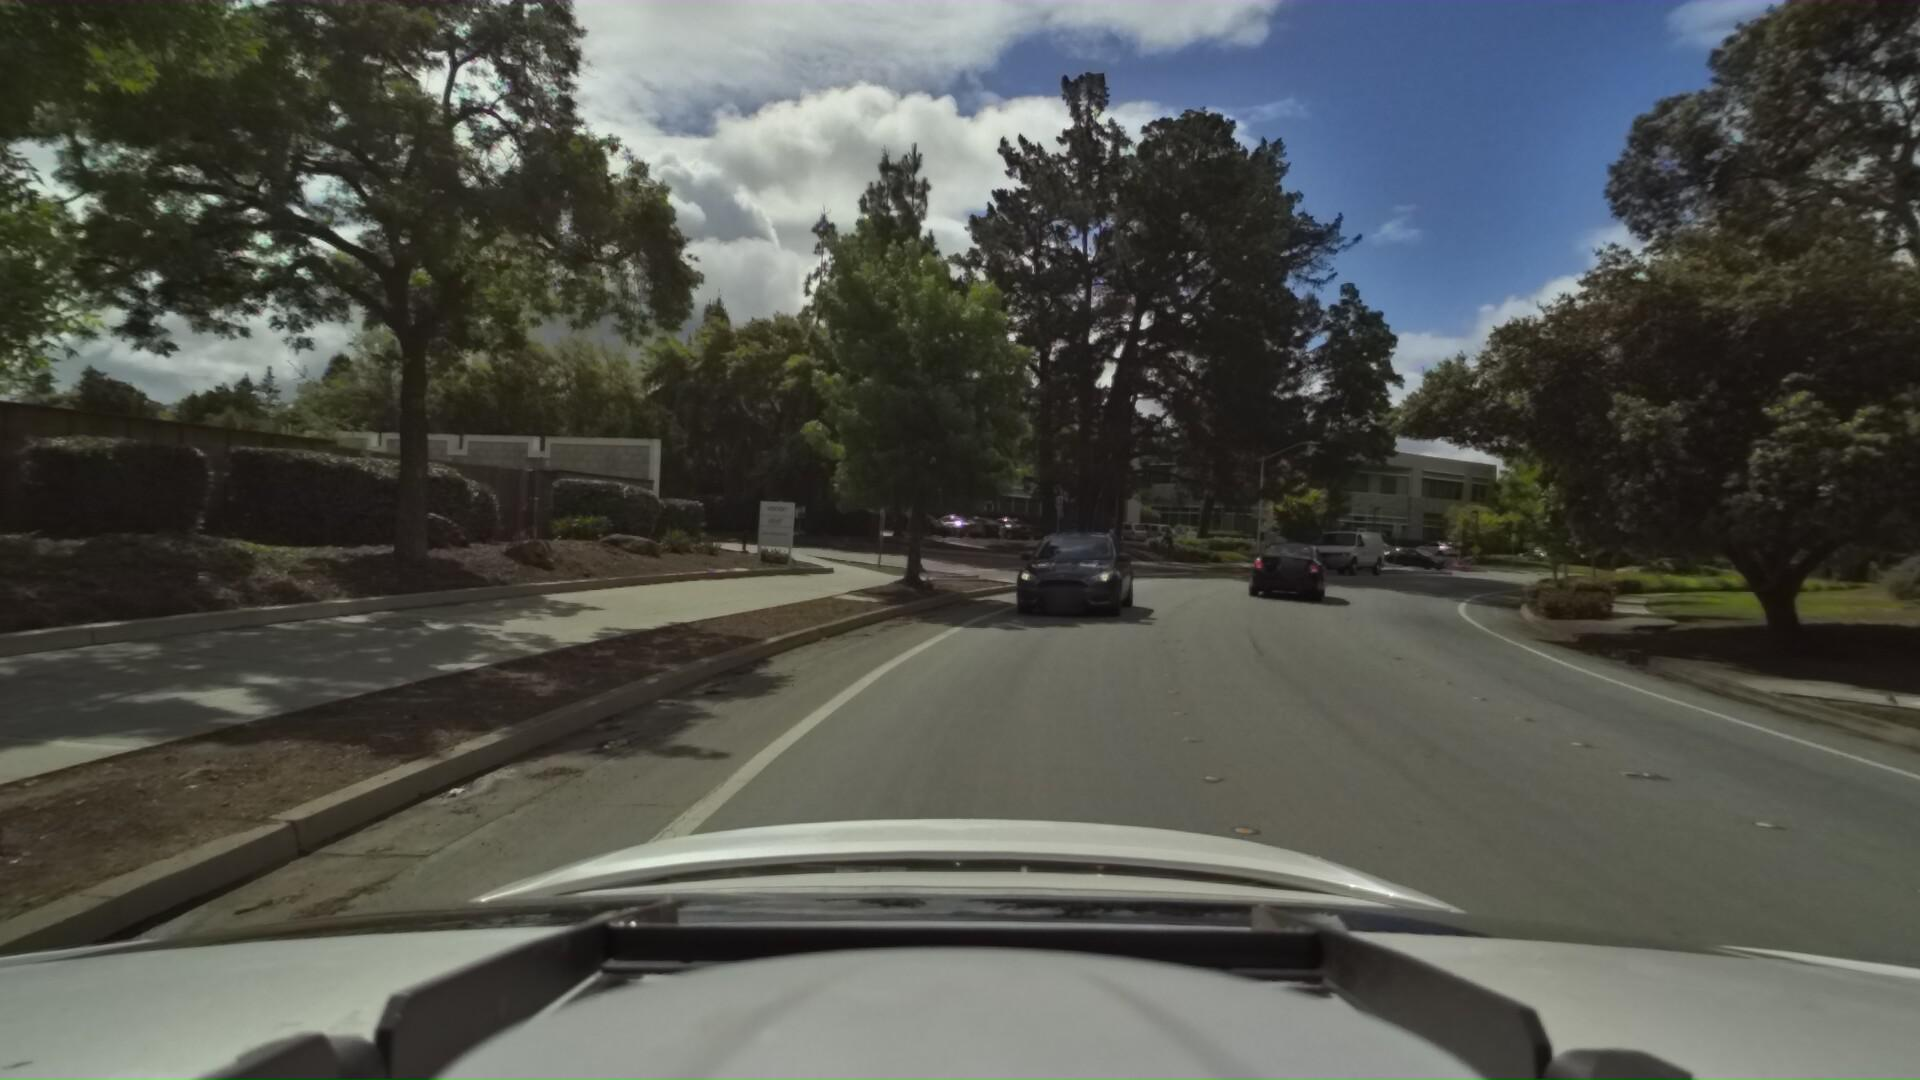car: (1015, 517, 1145, 616), (1242, 525, 1329, 603), (1304, 517, 1399, 574)
